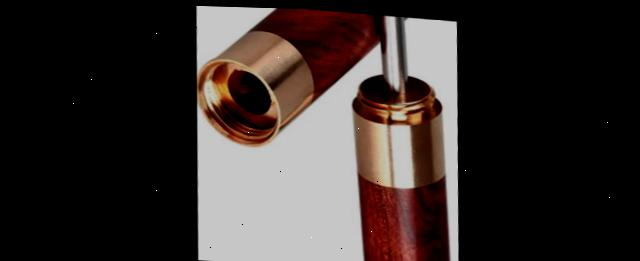ice pick: (337, 9, 469, 261)
